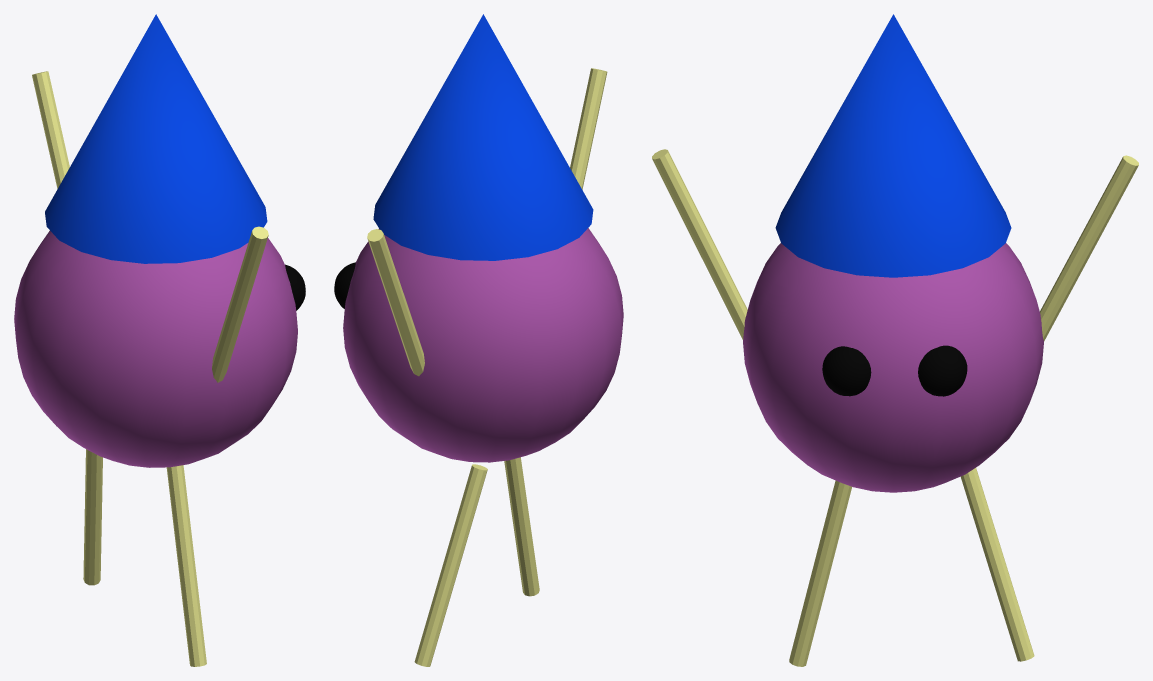
Rendered from character.fbx.
The picture shows the model from 3 angles, left to right: view 1: azimuth 30°, elevation 25°; view 2: azimuth 150°, elevation 25°; view 3: azimuth 270°, elevation 25°; orthographic projection. The views are drawn at different scales.
Parts seen in each view (by area): view 1: pCylinder5; view 2: pCylinder5; view 3: pCylinder5.
Boxes of the visible parts, left/top/right/bottom form: pCylinder5: left=14, top=14, right=305, bottom=666; pCylinder5: left=334, top=14, right=623, bottom=666; pCylinder5: left=652, top=14, right=1138, bottom=666.
Size of the model in its own units: 2.02 by 4.78 by 3.23.
